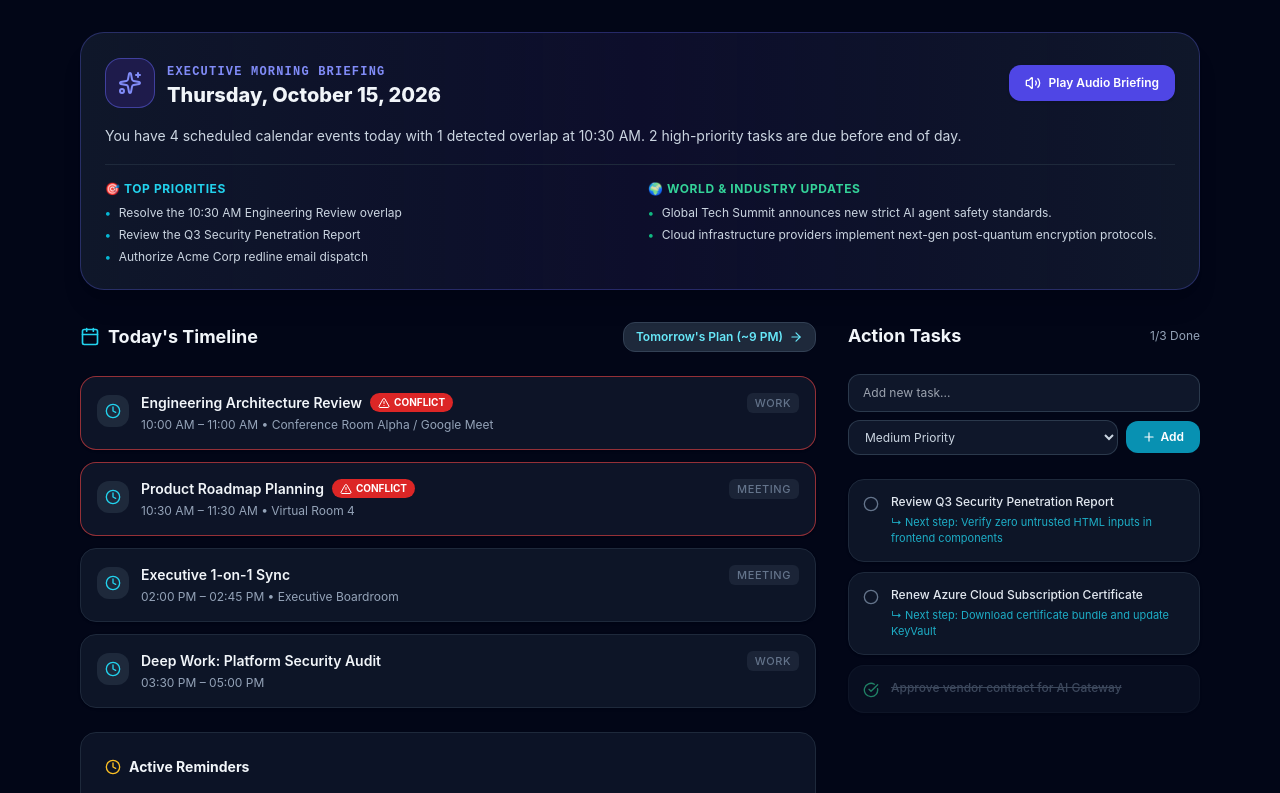
PHASE 5: Today, Evening Plan and Morning Briefing › Tomorrow's plan modal accepts and locks in schedule on master approval
Click the button with test id "open-evening-plan-btn" at (719, 337), box [623,322,816,352]
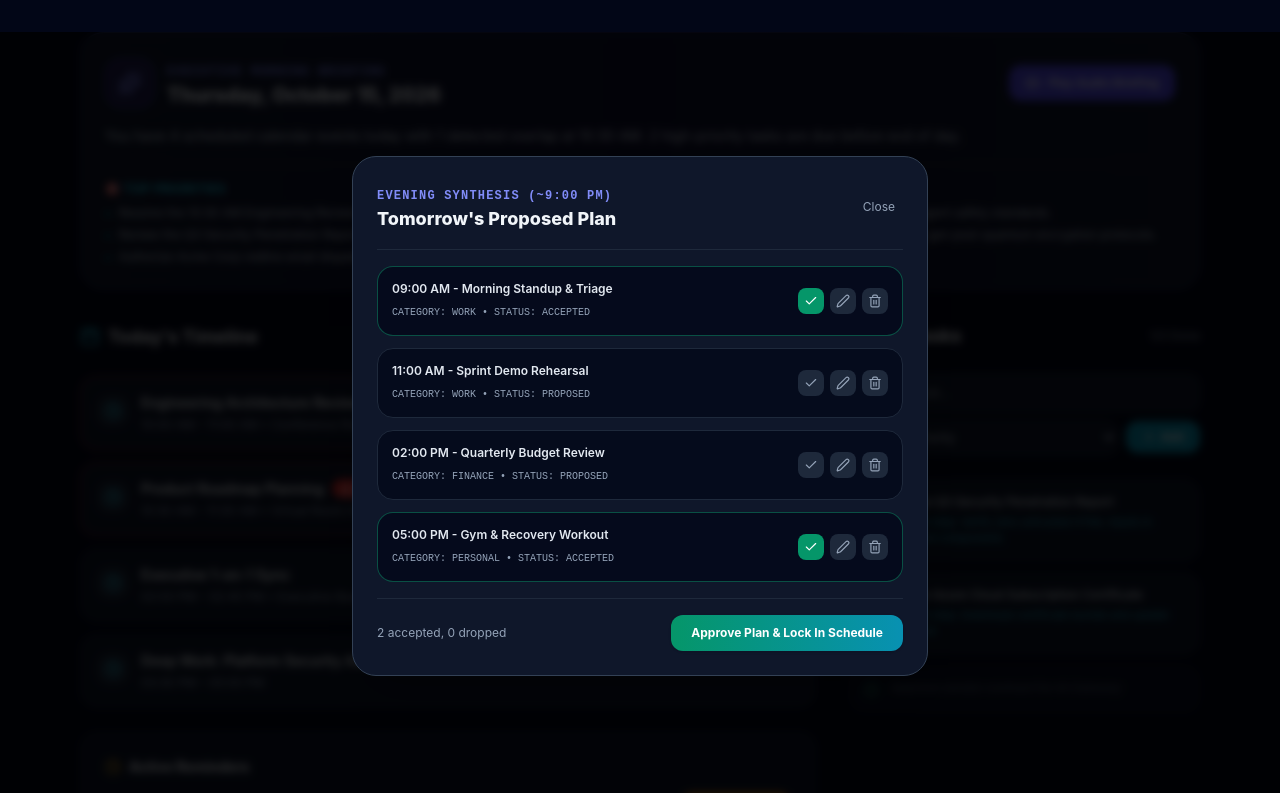
Result: the heading "Tomorrow's Proposed Plan" is shown at [377,205,616,233]
Click the button with test id "approve-plan-master-btn" at (787, 633), box [671,615,903,651]
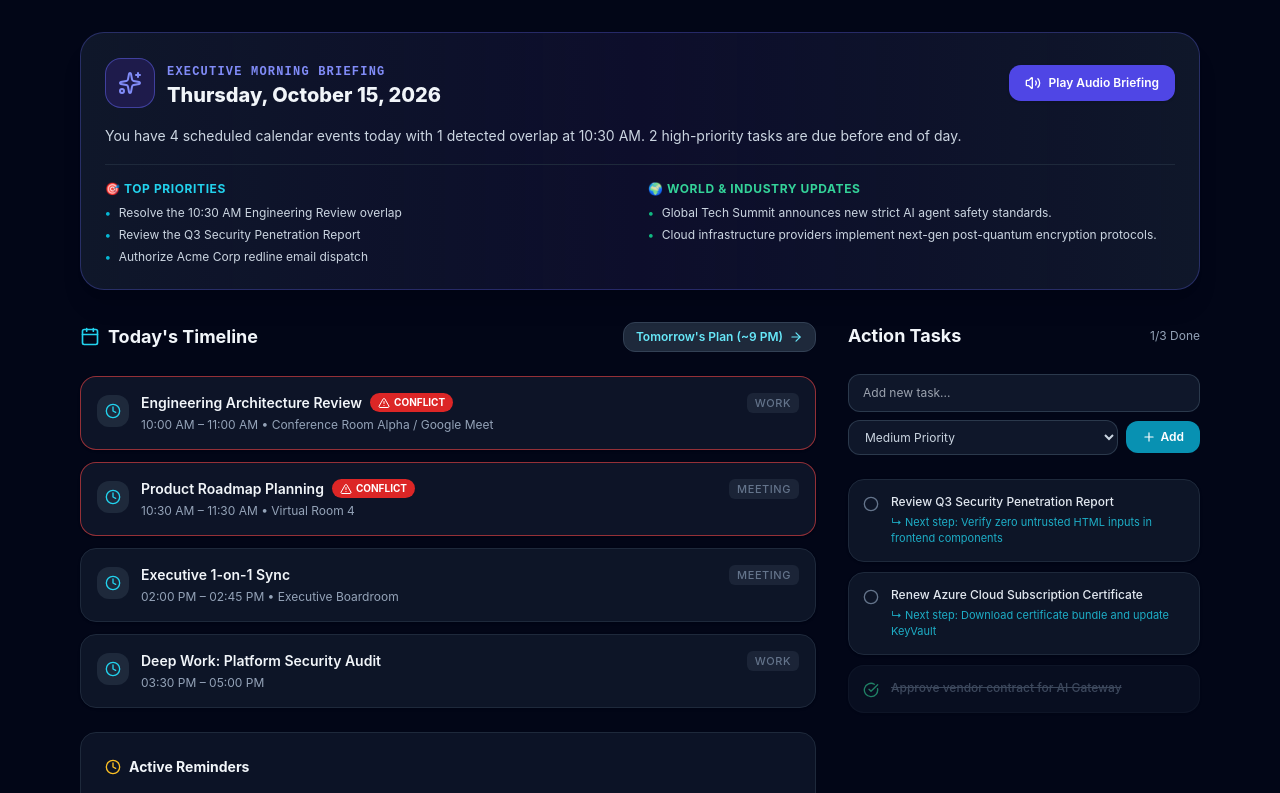
Result: the heading "Tomorrow's Proposed Plan" is gone
